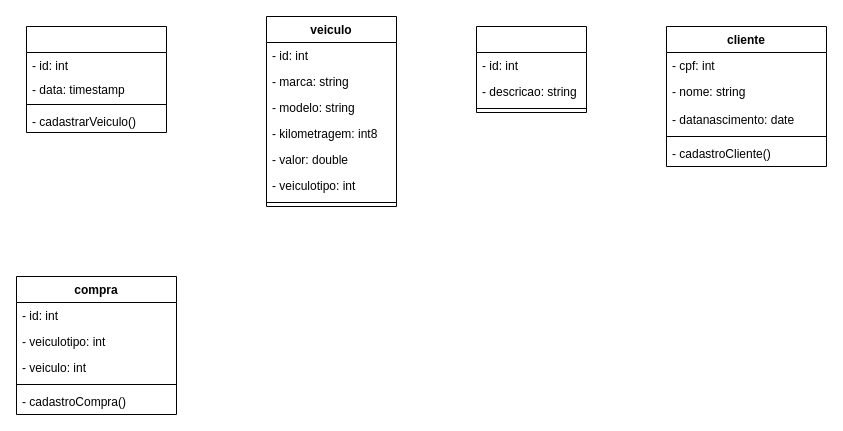
This 843x431 diagram has some shape labels left out. Here are the shapes that lost their labels. From the top down, the box of each, then its label:
(26, 26, 166, 132): cadastroVeiculo
(476, 26, 586, 112): VeiculoTipo
